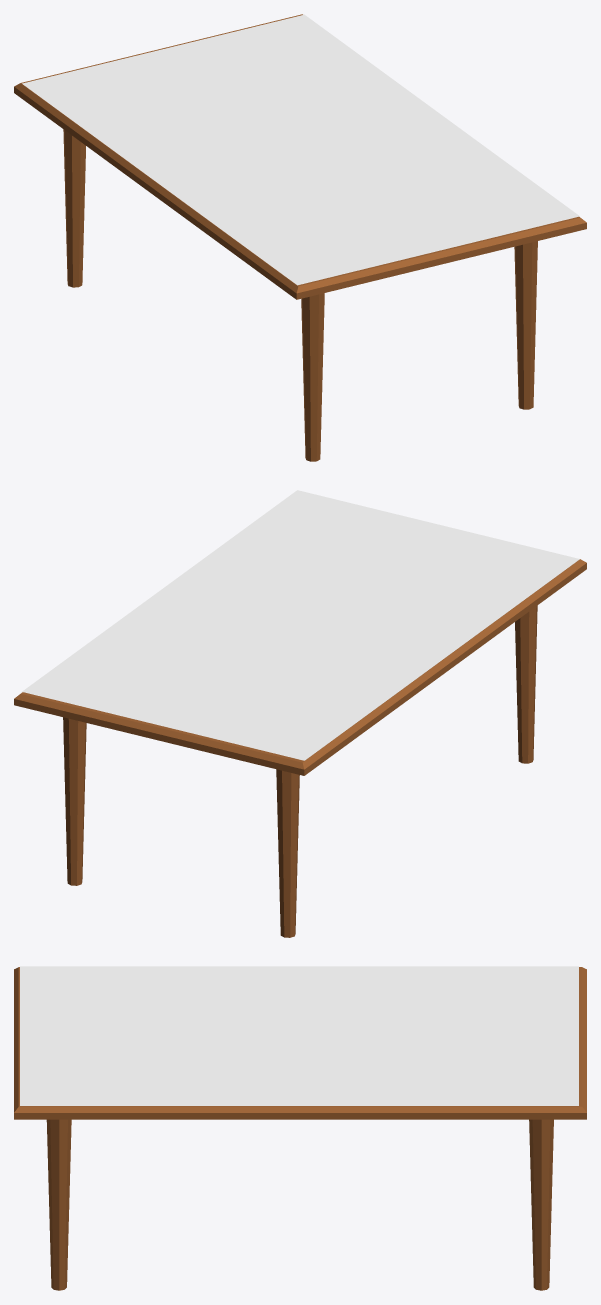
The model's file is table.fbx.
3 renders of one model, top to bottom at view 1: azimuth 30°, elevation 25°; view 2: azimuth 150°, elevation 25°; view 3: azimuth 270°, elevation 25°, orthographic.
Parts seen in each view (by area): view 1: Plane, Table_Large_Rectangular_01_Circle.004; view 2: Plane, Table_Large_Rectangular_01_Circle.004; view 3: Plane, Table_Large_Rectangular_01_Circle.004.
Boxes of the visible parts, box(x1,y1,x2,y2) form: Plane: box(22, 14, 579, 285); Table_Large_Rectangular_01_Circle.004: box(14, 14, 586, 461); Plane: box(22, 490, 579, 760); Table_Large_Rectangular_01_Circle.004: box(14, 559, 586, 937); Plane: box(20, 966, 578, 1105); Table_Large_Rectangular_01_Circle.004: box(14, 967, 586, 1290).
Bounding box in the file's own units: 367 × 236 × 618.
